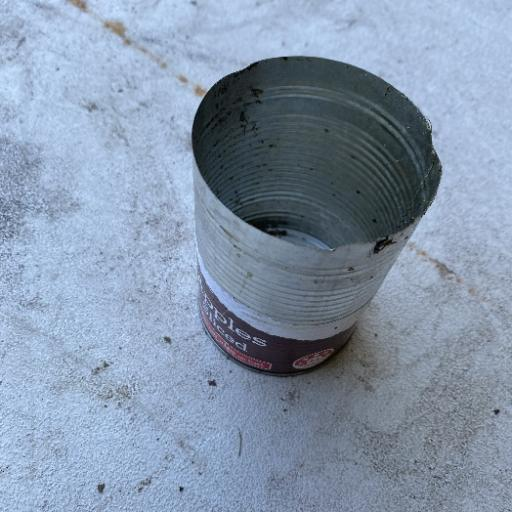Metal: (188, 54, 444, 378)
